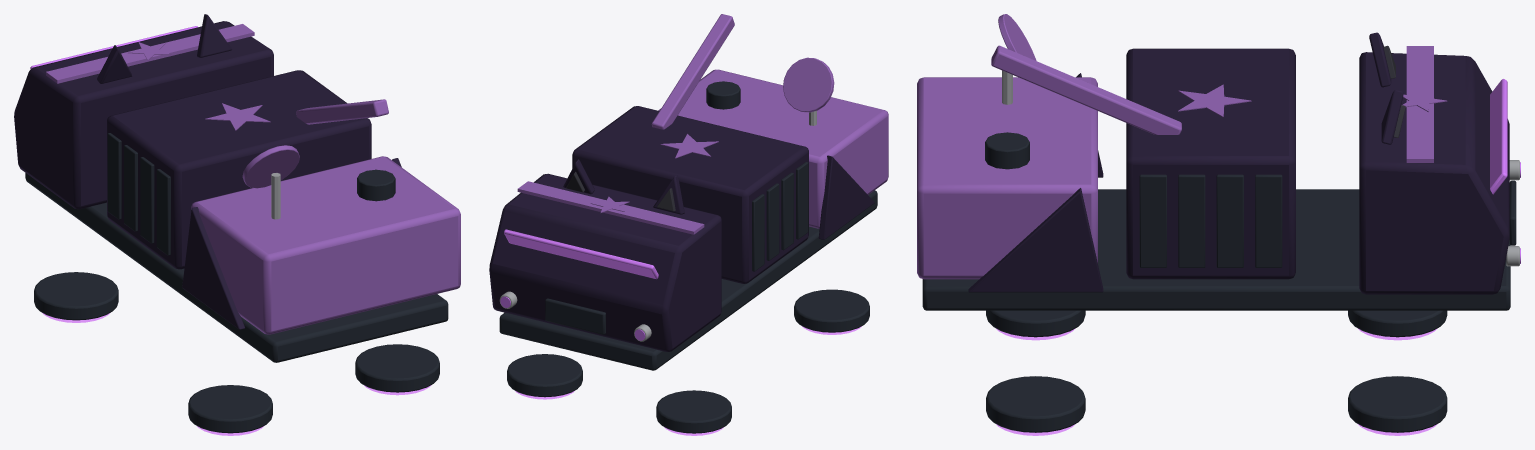
File: katzen_nestmobil.glb
3 views of the same model, side by side, from view 1: azimuth 30°, elevation 25°; view 2: azimuth 150°, elevation 25°; view 3: azimuth 270°, elevation 25° (orthographic). The views are drawn at different scales.
Parts seen in each view (by area): view 1: module_b, module_a, cab, frame, pad_1_-1, pad_-1_-1, pad_-1_1, fin_-1, cab_roof_stripe, dish, crane_arm, panelb_1 (+8 smaller); view 2: cab, module_a, module_b, frame, pad_-1_-1, pad_-1_1, pad_1_1, fin_-1, crane_arm, cab_roof_stripe, dish, cab_window (+9 smaller); view 3: cab, module_b, module_a, frame, fin_1, pad_1_-1, pad_1_1, crane_arm, cab_roof_stripe, panel_1, panel_3, panel_2 (+9 smaller).
Part boxes in pixels (left/top/right/bottom): module_b: left=191, top=156, right=460, bottom=334; module_a: left=107, top=70, right=371, bottom=269; cab: left=14, top=21, right=273, bottom=209; frame: left=25, top=173, right=448, bottom=362; pad_1_-1: left=355, top=344, right=439, bottom=392; pad_-1_-1: left=188, top=385, right=272, bottom=433; pad_-1_1: left=34, top=272, right=118, bottom=320; fin_-1: left=182, top=207, right=244, bottom=329; cab_roof_stripe: left=46, top=24, right=254, bottom=83; dish: left=242, top=145, right=299, bottom=188; crane_arm: left=296, top=99, right=388, bottom=124; panelb_1: left=140, top=157, right=154, bottom=243; cab: left=489, top=173, right=721, bottom=351; module_a: left=572, top=106, right=808, bottom=283; module_b: left=658, top=69, right=888, bottom=228; frame: left=499, top=190, right=877, bottom=370; pad_-1_-1: left=794, top=289, right=869, bottom=332; pad_-1_1: left=656, top=390, right=731, bottom=433; pad_1_1: left=507, top=354, right=582, bottom=397; fin_-1: left=818, top=155, right=874, bottom=239; crane_arm: left=651, top=14, right=734, bottom=129; cab_roof_stripe: left=517, top=181, right=704, bottom=234; dish: left=783, top=57, right=834, bottom=112; cab_window: left=504, top=229, right=658, bottom=279; cab: left=1359, top=52, right=1509, bottom=294; module_b: left=917, top=77, right=1097, bottom=279; module_a: left=1126, top=48, right=1295, bottom=279; frame: left=922, top=189, right=1510, bottom=310; fin_1: left=968, top=188, right=1103, bottom=292; pad_1_-1: left=986, top=376, right=1085, bottom=432; pad_1_1: left=1348, top=376, right=1447, bottom=432; crane_arm: left=991, top=45, right=1181, bottom=134; cab_roof_stripe: left=1406, top=46, right=1433, bottom=162; panel_1: left=1178, top=174, right=1205, bottom=267; panel_3: left=1255, top=174, right=1282, bottom=267; panel_2: left=1216, top=174, right=1243, bottom=267.
Bounding box in the file's own units: 1.44 × 1.71 × 2.67.
